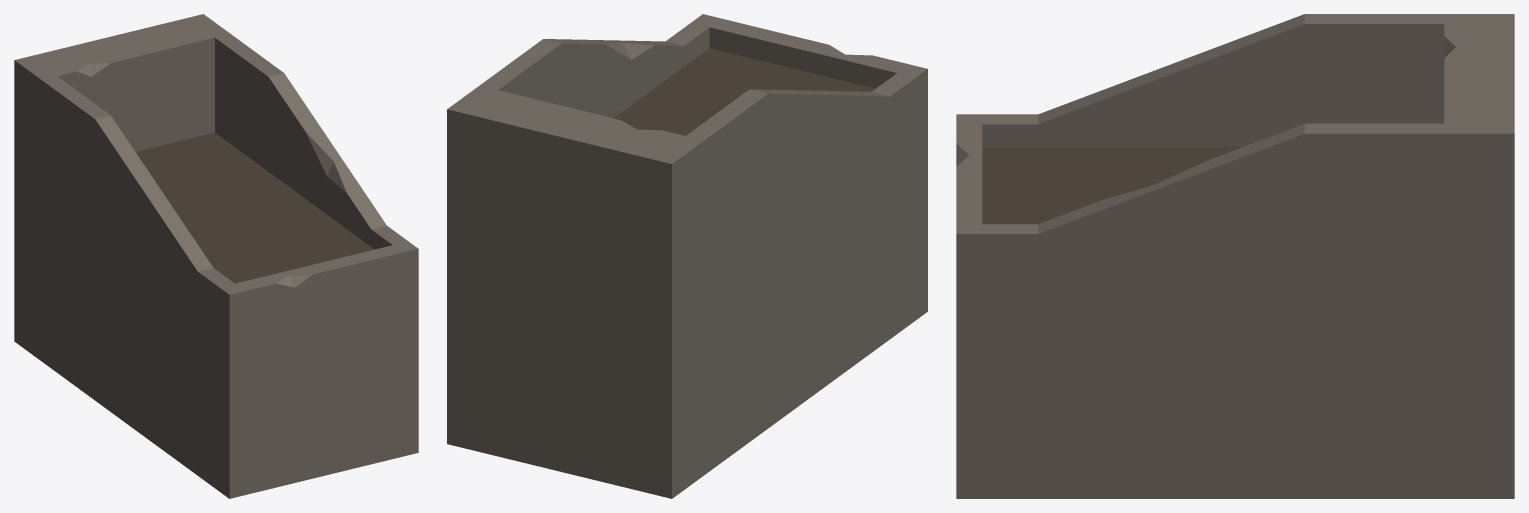
File: SM_Bld_Apartment_Stairs_Planter_01.fbx
3 renders of one model, left to right at view 1: azimuth 30°, elevation 25°; view 2: azimuth 150°, elevation 25°; view 3: azimuth 270°, elevation 25°, orthographic. The views are drawn at different scales.
Parts seen in each view (by area): view 1: SM_Bld_Apartment_Stairs_Planter_01; view 2: SM_Bld_Apartment_Stairs_Planter_01; view 3: SM_Bld_Apartment_Stairs_Planter_01.
Boxes of the visible parts, bbox=[...] form: SM_Bld_Apartment_Stairs_Planter_01: bbox=[14, 14, 418, 498]; SM_Bld_Apartment_Stairs_Planter_01: bbox=[447, 14, 927, 498]; SM_Bld_Apartment_Stairs_Planter_01: bbox=[956, 14, 1514, 498].
Size of the model in its own units: 228 by 325 by 450.
